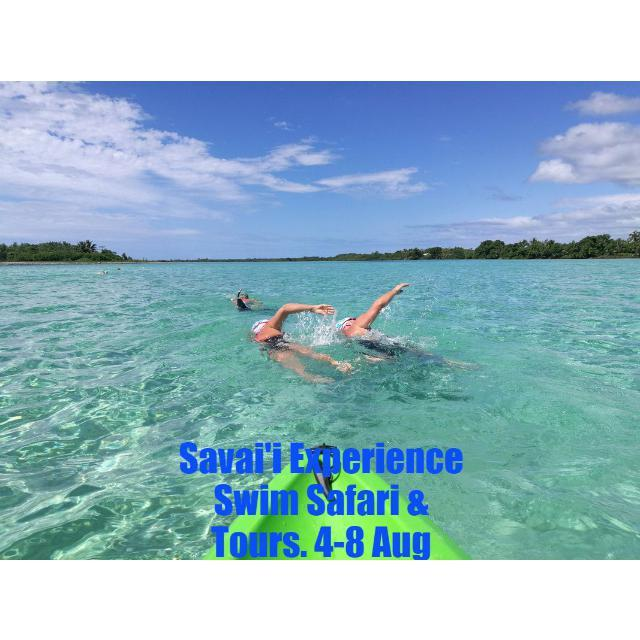human: (338, 274, 444, 368), (247, 302, 354, 390), (229, 283, 257, 313)
